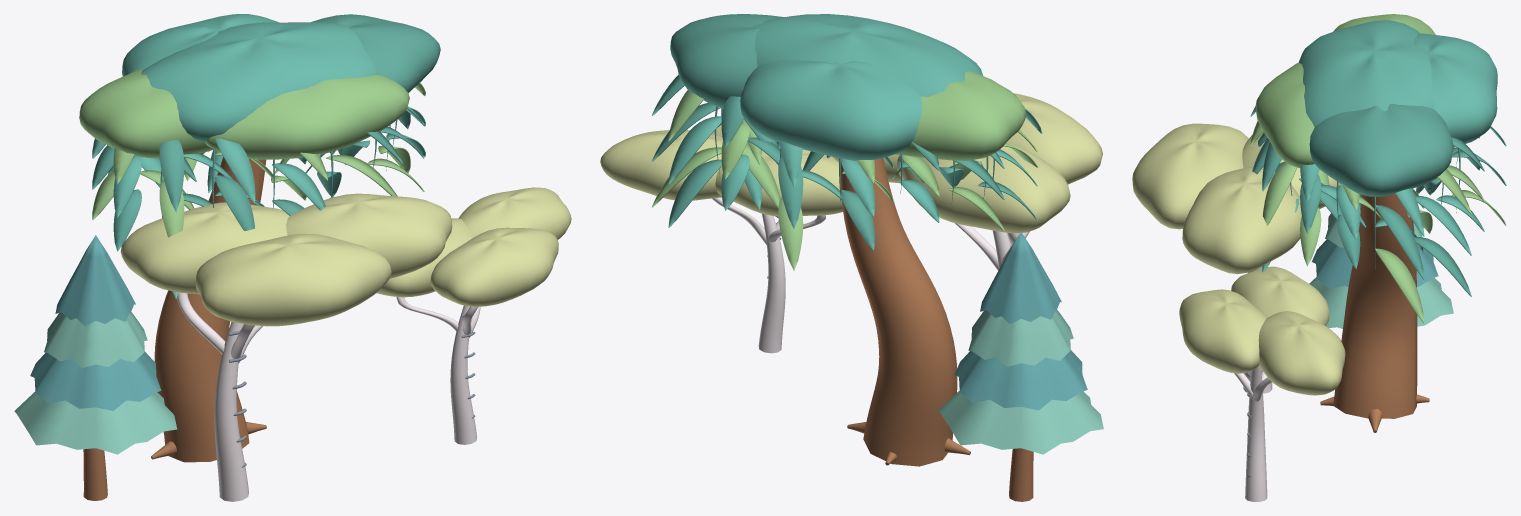
The model's file is owned-tree-components.glb.
3 renders of one model, left to right at view 1: azimuth 30°, elevation 25°; view 2: azimuth 150°, elevation 25°; view 3: azimuth 270°, elevation 25°, orthographic. The views are drawn at different scales.
Parts seen in each view (by area): view 1: role-l14-2234, role-l15-2598, role-l14-2238, role-l14-2743, role-l15-2596, role-l15-2597, role-l29-2598, role-l14-2235, role-l28-2693, role-l28-2694, role-l14-2236, role-l28-2695 (+16 smaller); view 2: role-l14-2743, role-l14-2237, role-l14-2234, role-l15-2597, role-l14-2235, role-l28-2693, role-l14-2236, role-l28-2694, role-l15-2598, role-l29-2596, role-l28-2695, role-l28-2696 (+20 smaller); view 3: role-l14-2743, role-l14-2236, role-l14-2234, role-l15-2596, role-l15-2598, role-l14-2237, role-l29-2596, role-l29-2598, role-l14-2238, role-l29-2597, role-l29-2608, role-l28-2693 (+17 smaller).
Boxes of the visible parts, box(x1,y1,x2,y2) form: role-l14-2234: box(141, 22, 378, 142); role-l15-2598: box(195, 234, 391, 326); role-l14-2238: box(205, 75, 409, 159); role-l14-2743: box(154, 157, 266, 462); role-l15-2596: box(286, 193, 452, 278); role-l15-2597: box(120, 202, 289, 294); role-l29-2598: box(430, 227, 558, 306); role-l14-2235: box(79, 68, 213, 158); role-l28-2693: box(14, 391, 177, 454); role-l28-2694: box(30, 351, 161, 410); role-l14-2236: box(311, 14, 440, 92); role-l28-2695: box(44, 312, 147, 367); role-l14-2743: box(840, 158, 957, 466); role-l14-2237: box(740, 59, 922, 160); role-l14-2234: box(752, 14, 982, 96); role-l15-2597: box(897, 141, 1070, 233); role-l14-2235: box(895, 71, 1026, 160); role-l28-2693: box(938, 390, 1103, 454); role-l14-2236: box(670, 14, 784, 107); role-l28-2694: box(954, 350, 1087, 410); role-l15-2598: box(1007, 93, 1102, 184); role-l29-2596: box(600, 130, 722, 200); role-l28-2695: box(968, 310, 1073, 366); role-l28-2696: box(980, 232, 1061, 324); role-l14-2743: box(1333, 194, 1417, 418); role-l14-2236: box(1309, 103, 1453, 196); role-l14-2234: box(1299, 20, 1433, 126); role-l15-2596: box(1182, 166, 1301, 274); role-l15-2598: box(1132, 123, 1248, 229); role-l14-2237: box(1413, 33, 1497, 146); role-l29-2596: box(1258, 311, 1345, 395); role-l29-2598: box(1179, 289, 1266, 373); role-l14-2238: box(1255, 62, 1319, 169); role-l29-2597: box(1231, 266, 1329, 325); role-l29-2608: box(1245, 366, 1267, 501); role-l28-2693: box(1309, 277, 1453, 328).
Size of the model in its own units: 4.56 by 3.59 by 3.01.
